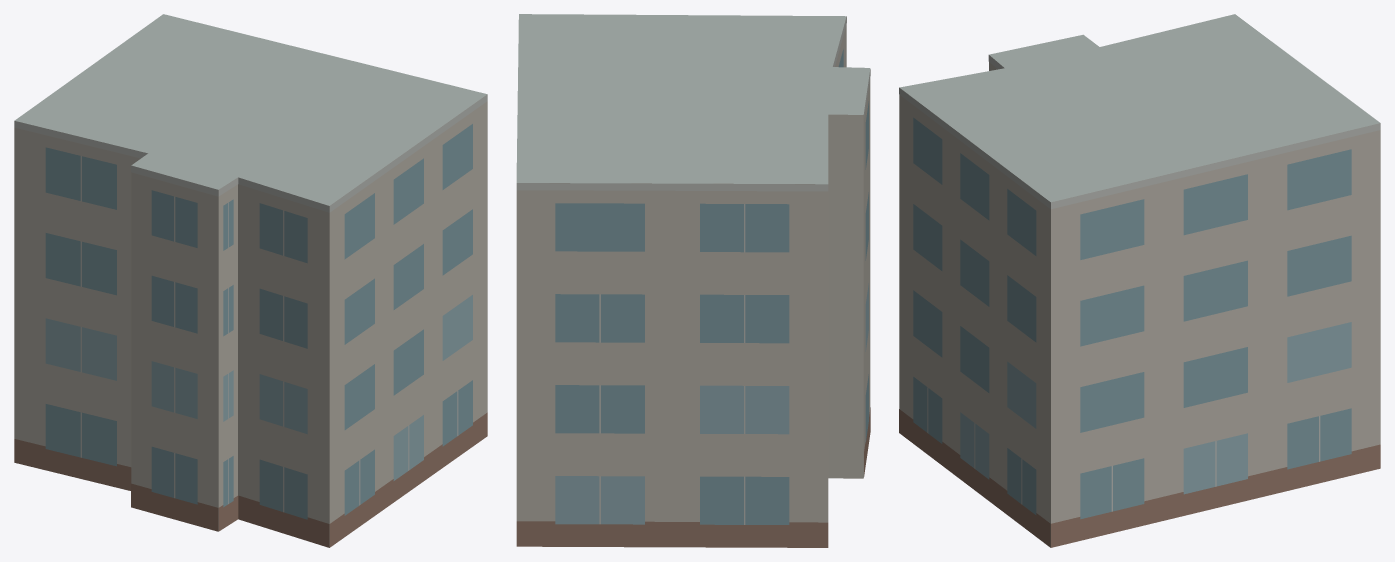
The model's file is survey-upis-32658031.glb.
The picture shows the model from 3 angles, left to right: view 1: azimuth 30°, elevation 25°; view 2: azimuth 150°, elevation 25°; view 3: azimuth 270°, elevation 25°; orthographic projection. The views are drawn at different scales.
Visible parts, largest first — view 1: survey-upis-32658031.tmp; view 2: survey-upis-32658031.tmp; view 3: survey-upis-32658031.tmp.
Part boxes in pixels (box(x1,y1,x2,y2)): survey-upis-32658031.tmp: box(14, 14, 487, 547); survey-upis-32658031.tmp: box(516, 14, 870, 547); survey-upis-32658031.tmp: box(899, 14, 1380, 547).
Size of the model in its own units: 14.28 by 12.2 by 15.42.
